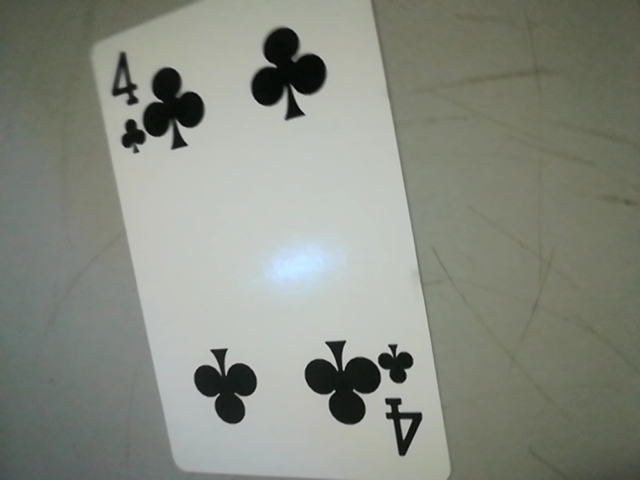mh 4: (373, 334, 436, 467)
